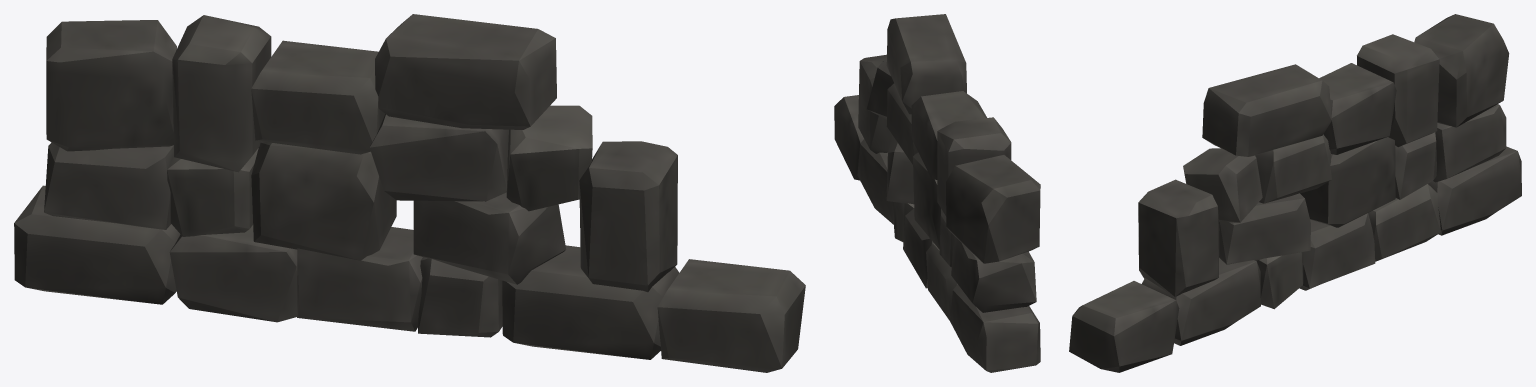
File: Brickwall2.fbx
3 renders of one model, left to right at view 1: azimuth 30°, elevation 25°; view 2: azimuth 150°, elevation 25°; view 3: azimuth 270°, elevation 25°, orthographic. The views are drawn at different scales.
Visible parts, largest first — view 1: Brickwall2; view 2: Brickwall2; view 3: Brickwall2.
Boxes of the visible parts, <box> form: Brickwall2: <box>14,14,805,372</box>; Brickwall2: <box>834,14,1040,372</box>; Brickwall2: <box>1069,14,1521,372</box>.
Bounding box in the file's own units: 276 × 143 × 275.
1 material, 1 textured.
